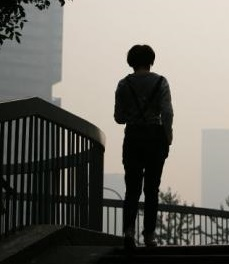person: (111, 42, 176, 250)
